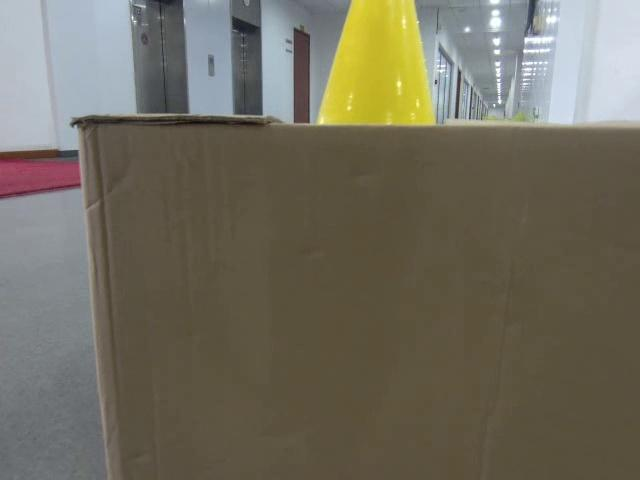yellow_barrel: (313, 0, 440, 126)
